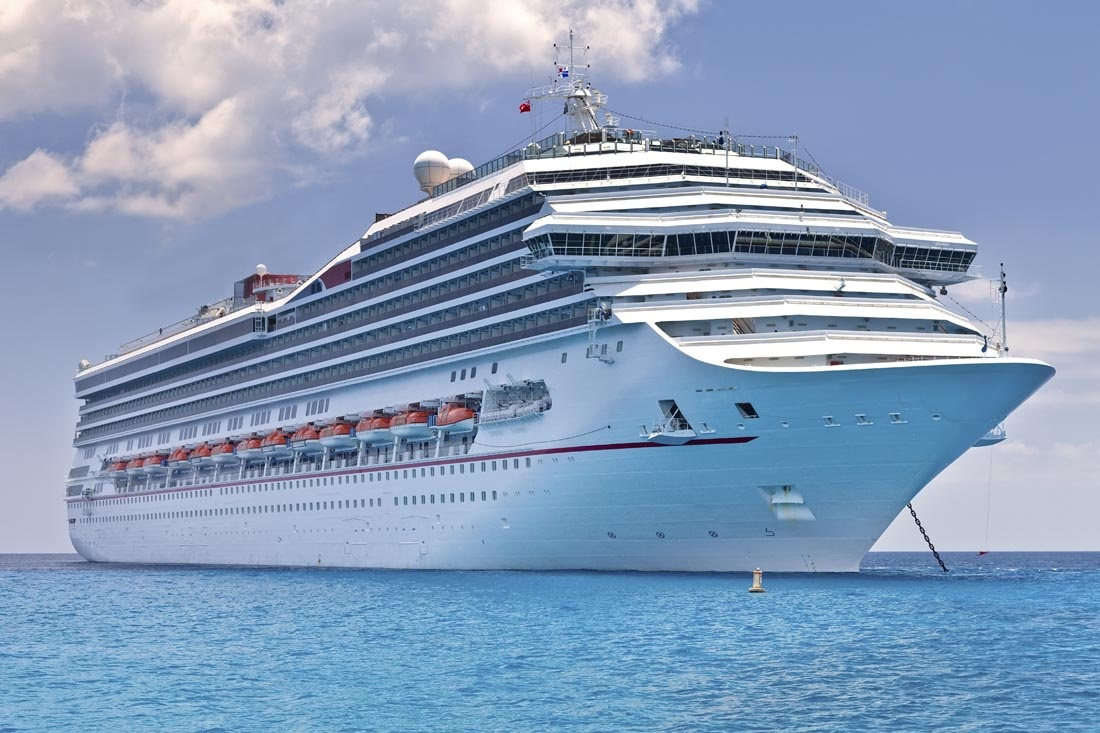youlun: (60, 75, 1032, 570)
